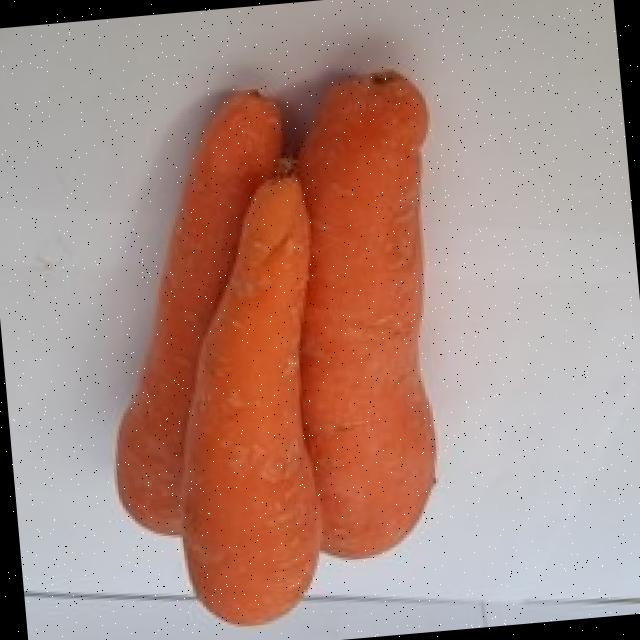carrot: (121, 96, 285, 537), (301, 78, 437, 560), (186, 179, 323, 628)
